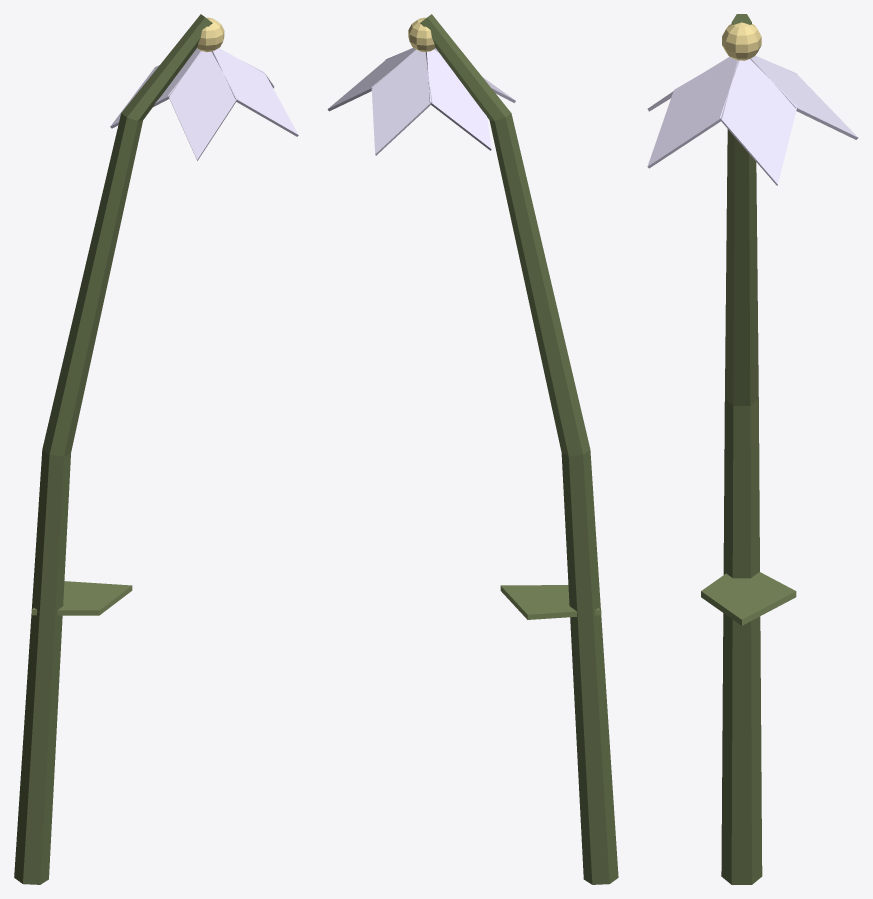
Rendered from MoonflowerLamp.fbx.
3 views of the same model, side by side, from view 1: azimuth 30°, elevation 25°; view 2: azimuth 150°, elevation 25°; view 3: azimuth 270°, elevation 25° (orthographic). The views are drawn at different scales.
Visible parts, largest first — view 1: Prop_MoonflowerLamp; view 2: Prop_MoonflowerLamp; view 3: Prop_MoonflowerLamp.
Part boxes in pixels (x1,y1,x2,y2): Prop_MoonflowerLamp: (14, 14, 298, 884); Prop_MoonflowerLamp: (327, 14, 618, 884); Prop_MoonflowerLamp: (647, 14, 858, 884).
Bounding box in the file's own units: 0.5393 × 1.56 × 0.3107.
